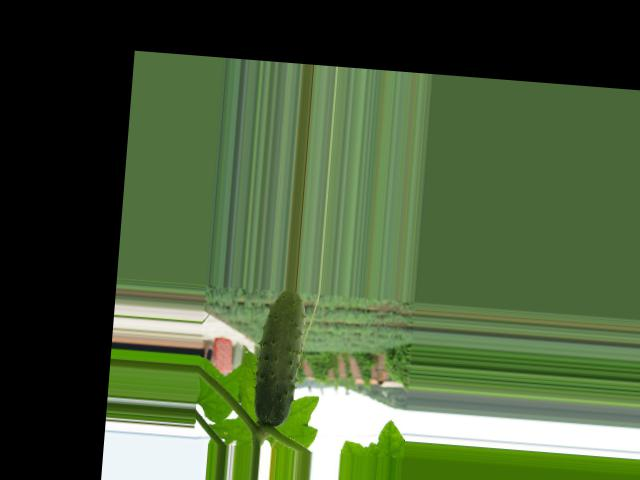cucumber: (252, 288, 307, 428)
